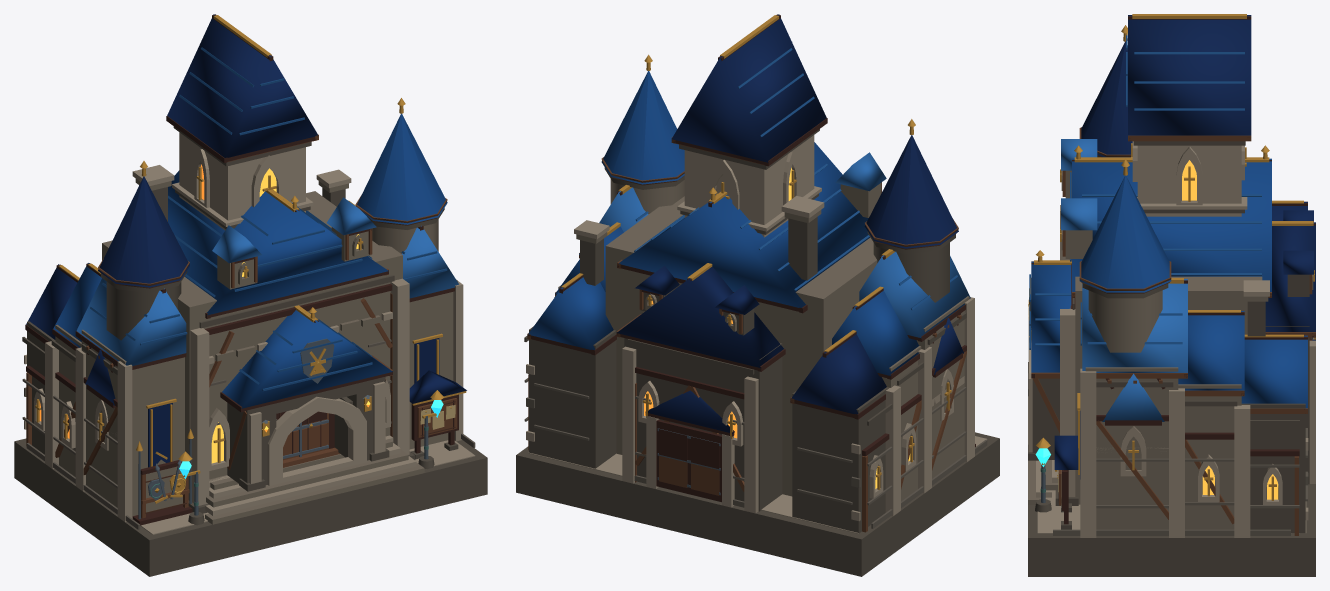
File: eastbrook_grand_armoury.glb
The picture shows the model from 3 angles, left to right: view 1: azimuth 30°, elevation 25°; view 2: azimuth 150°, elevation 25°; view 3: azimuth 270°, elevation 25°; orthographic projection. The views are drawn at different scales.
Parts seen in each view (by area): view 1: ArmouryStoneMasses, ArmouryCobaltMasses, ArmouryTimberMasses, ArmouryMetalMasses, ArmouryWarmGlow; view 2: ArmouryStoneMasses, ArmouryCobaltMasses, ArmouryTimberMasses, ArmouryMetalMasses; view 3: ArmouryStoneMasses, ArmouryCobaltMasses, ArmouryTimberMasses, ArmouryMetalMasses, ArmouryWarmGlow.
Part boxes in pixels (bbox=[...]): ArmouryStoneMasses: bbox=[14, 126, 487, 576]; ArmouryCobaltMasses: bbox=[26, 14, 466, 467]; ArmouryTimberMasses: bbox=[25, 14, 458, 525]; ArmouryMetalMasses: bbox=[35, 15, 466, 519]; ArmouryWarmGlow: bbox=[39, 164, 370, 463]; ArmouryStoneMasses: bbox=[516, 129, 999, 576]; ArmouryCobaltMasses: bbox=[528, 14, 970, 433]; ArmouryTimberMasses: bbox=[527, 14, 975, 532]; ArmouryMetalMasses: bbox=[561, 15, 951, 495]; ArmouryStoneMasses: bbox=[1028, 141, 1315, 576]; ArmouryCobaltMasses: bbox=[1029, 15, 1315, 479]; ArmouryTimberMasses: bbox=[1031, 16, 1315, 535]; ArmouryMetalMasses: bbox=[1028, 14, 1315, 502]; ArmouryWarmGlow: bbox=[1029, 160, 1278, 499].
Bounding box in the file's own units: 13 × 16.35 × 9.
